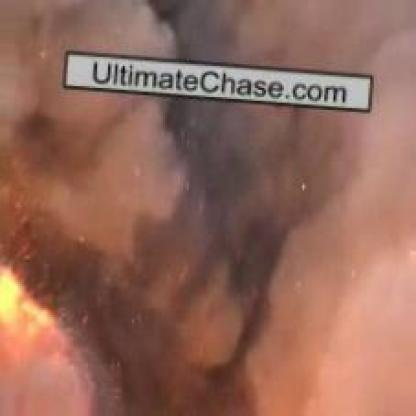smoke: (11, 5, 390, 388)
